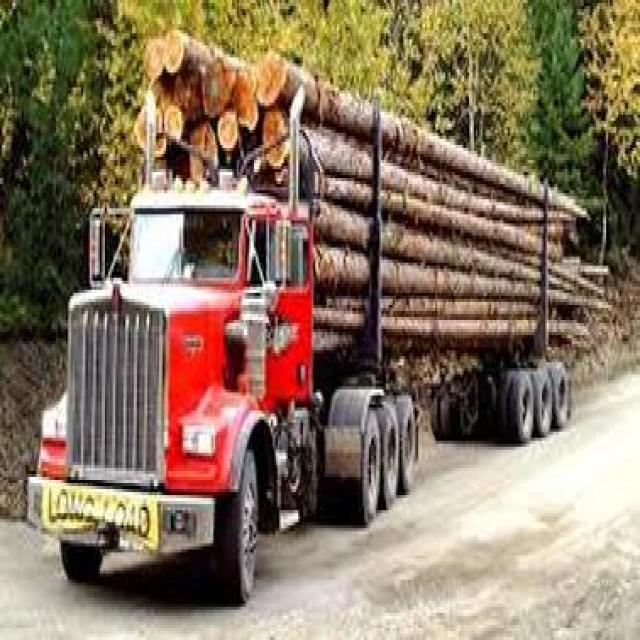Truck: (28, 22, 590, 606)
